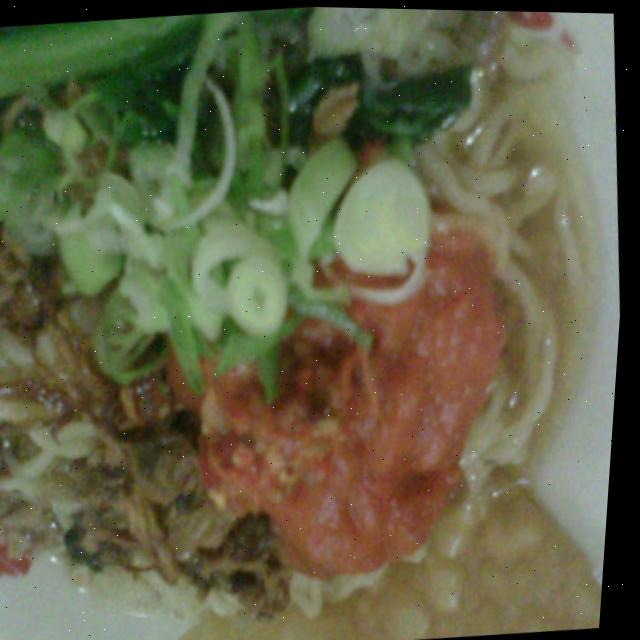面条主食: (0, 12, 639, 640)
